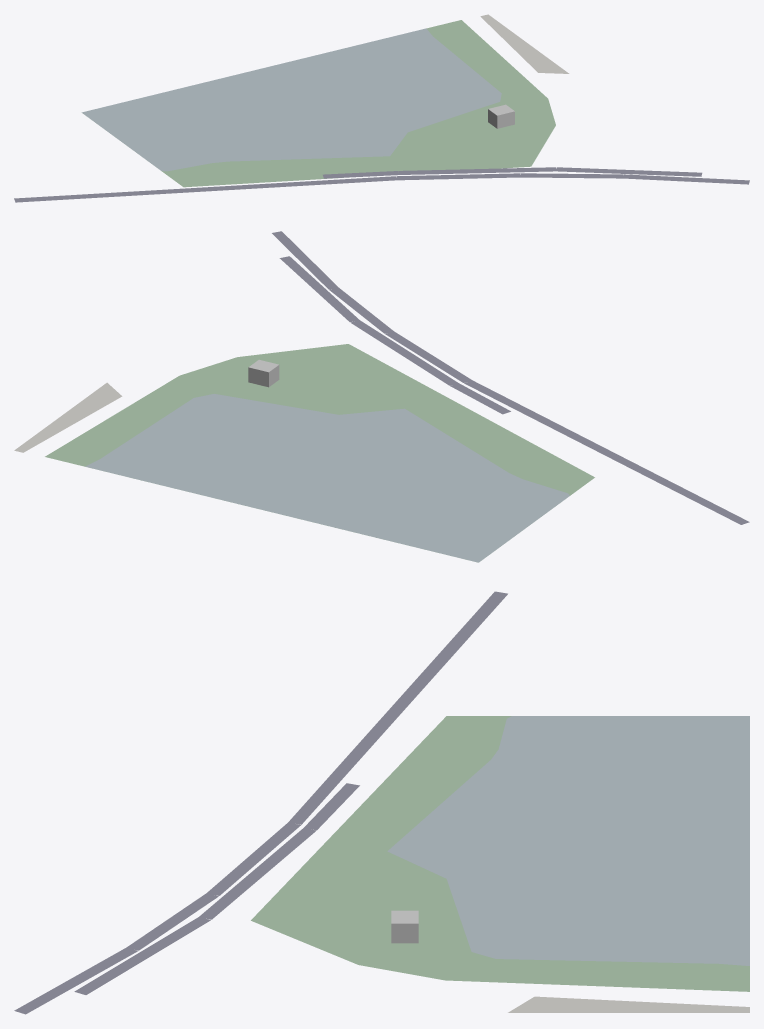
File: 136_115_mid.glb
3 views of the same model, one above another, from view 1: azimuth 30°, elevation 25°; view 2: azimuth 150°, elevation 25°; view 3: azimuth 270°, elevation 25° (orthographic). The views are drawn at different scales.
Size of the model in its own units: 709 by 16.72 by 527.
